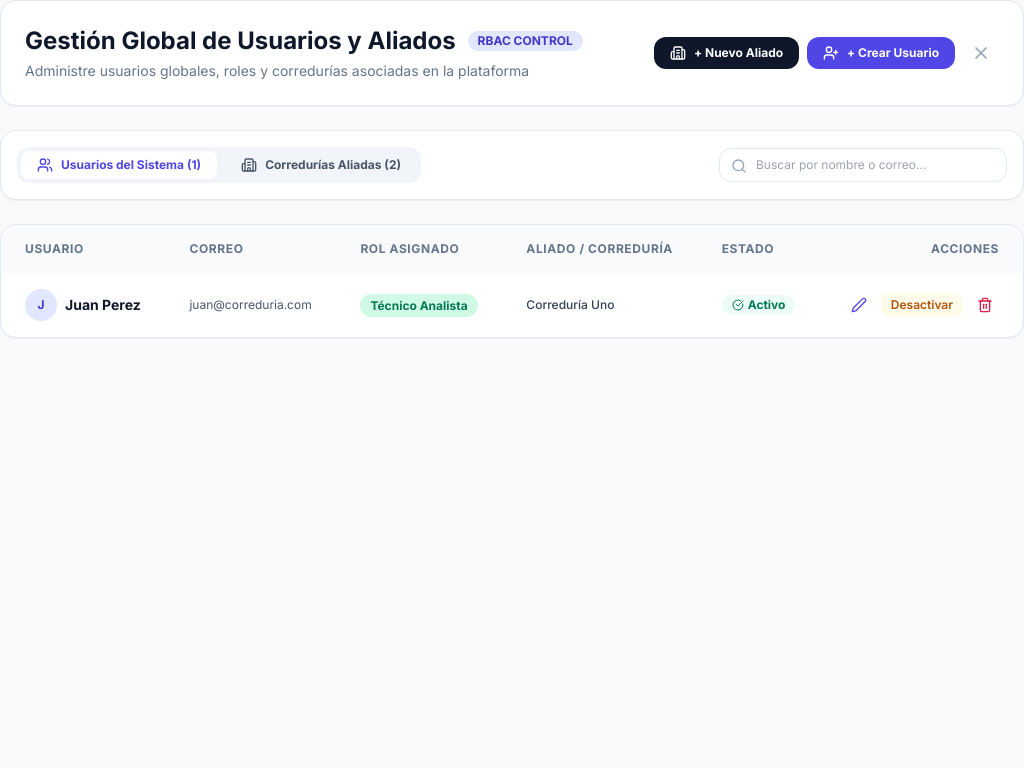
Test: UserManagement component › opens UserEditModal when clicking edit button
Expected: the text "Juan Perez" is shown, top-left (65, 295), bottom-right (141, 315)
Click the button titled "Editar usuario".
click(859, 305)  # box top-left (845, 291), bottom-right (873, 319)
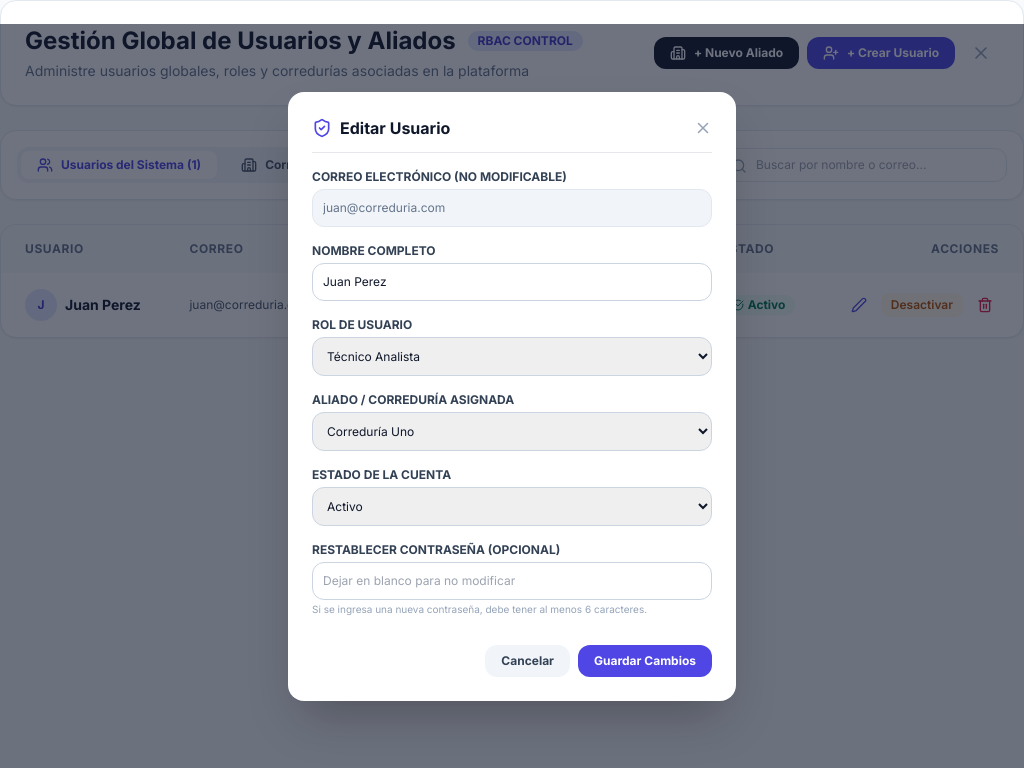
Expected: the heading "Editar Usuario" is shown, top-left (340, 116), bottom-right (450, 140)
Expected: the field showing "Juan Perez" below "Nombre Completo" is shown, top-left (312, 262), bottom-right (712, 300)
